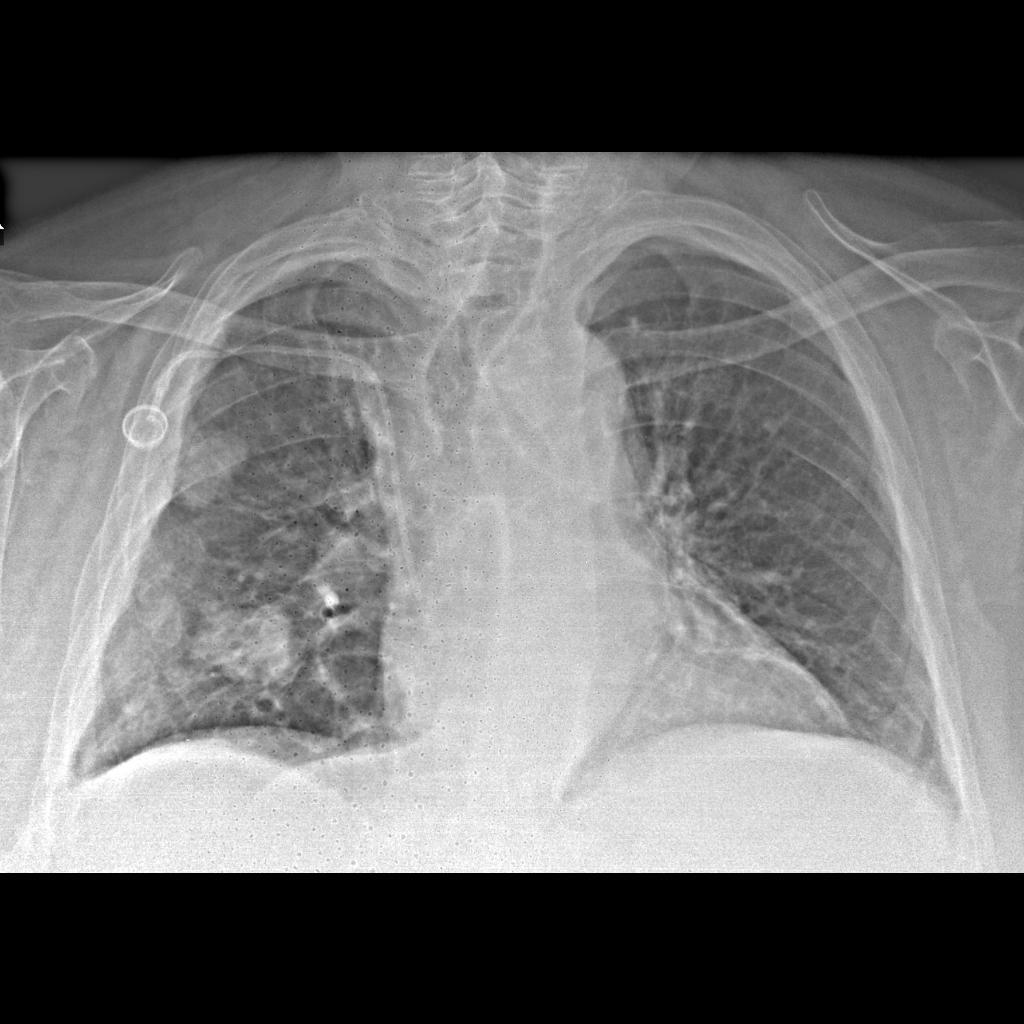Nodule: (202, 605, 310, 694), (171, 423, 251, 516)
